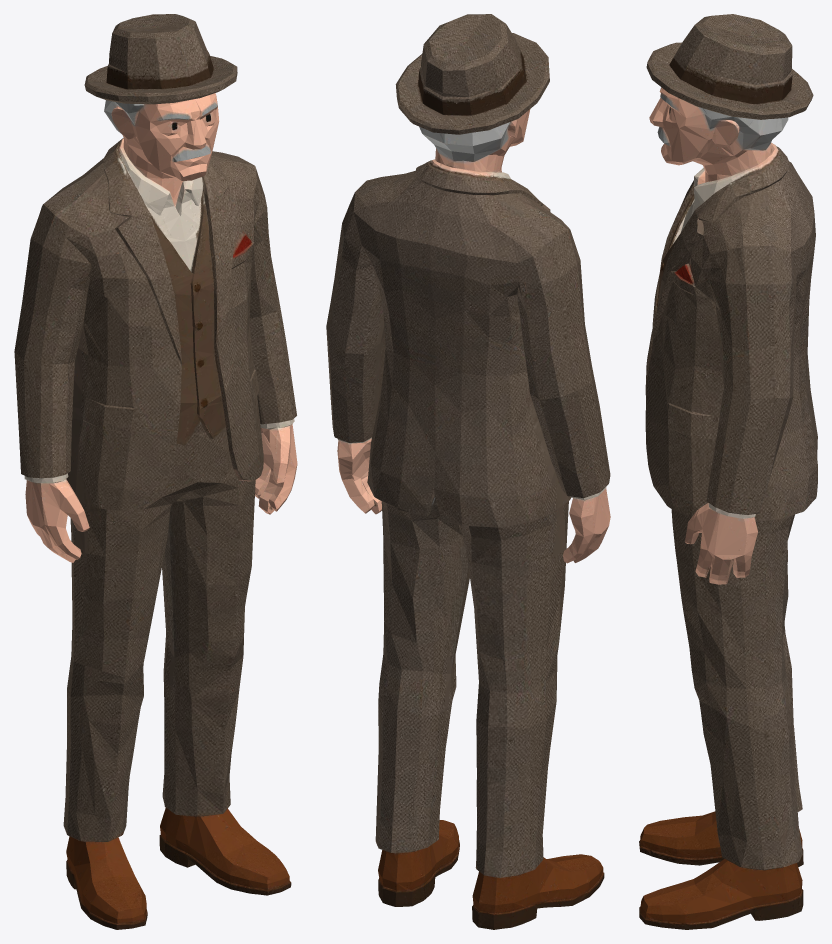
The model's file is passager_ref1.glb.
3 renders of one model, left to right at view 1: azimuth 30°, elevation 25°; view 2: azimuth 150°, elevation 25°; view 3: azimuth 270°, elevation 25°, orthographic.
Parts seen in each view (by area): view 1: geometry_0; view 2: geometry_0; view 3: geometry_0.
Part boxes in pixels (bbox=[...]): geometry_0: bbox=[14, 14, 297, 929]; geometry_0: bbox=[326, 14, 610, 929]; geometry_0: bbox=[639, 14, 817, 929].
Bounding box in the file's own units: 0.6191 × 1.9 × 0.3581.
Materials: 1 (1 with a texture image).
